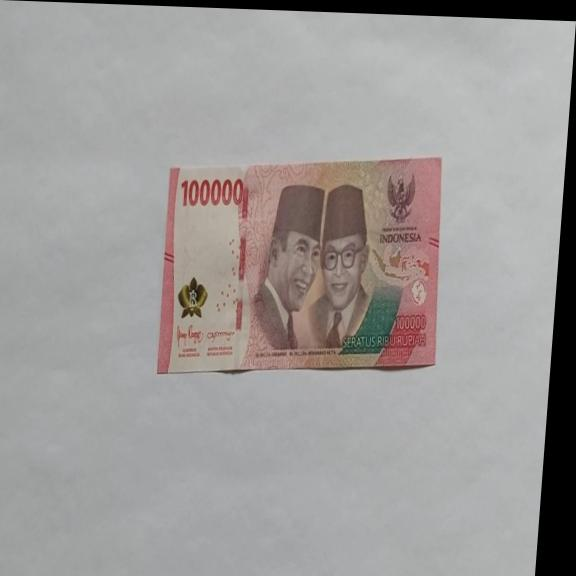Kertas: (154, 146, 451, 384), (179, 173, 245, 210)
